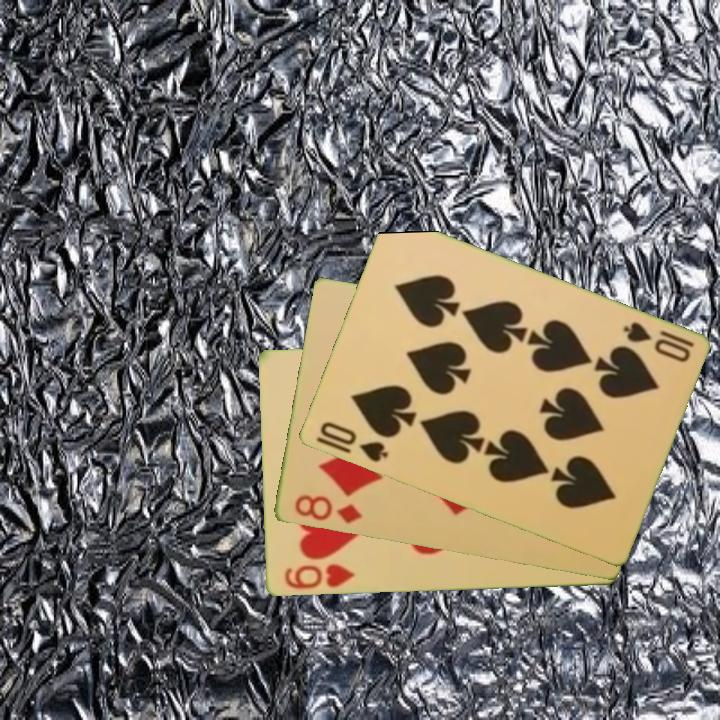10s: (618, 318, 697, 366), (316, 418, 391, 465)
6h: (281, 561, 357, 592)
8d: (290, 491, 365, 527)
